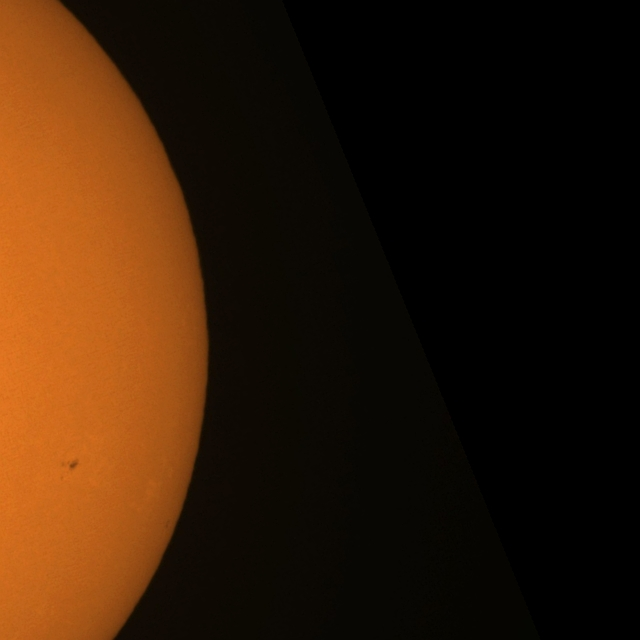sunspot: (59, 456, 80, 482), (163, 518, 172, 532)
